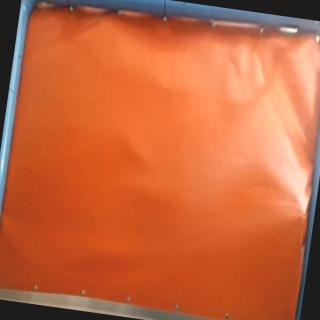Hit-hRxx: (296, 206, 310, 223)
